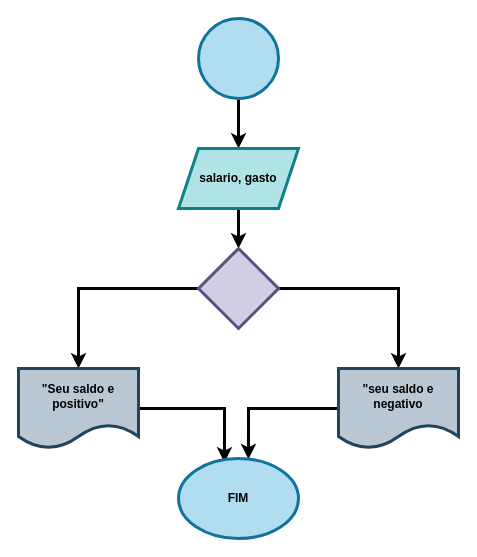
Some shapes in this 477 by 557 pixel diagram are drawn without their labels. Here are the shapes that lost their labels. From the top down, the centre of each, then its label:
At point (238, 58): "INICIO".
At point (238, 288): "salario<gasto".
